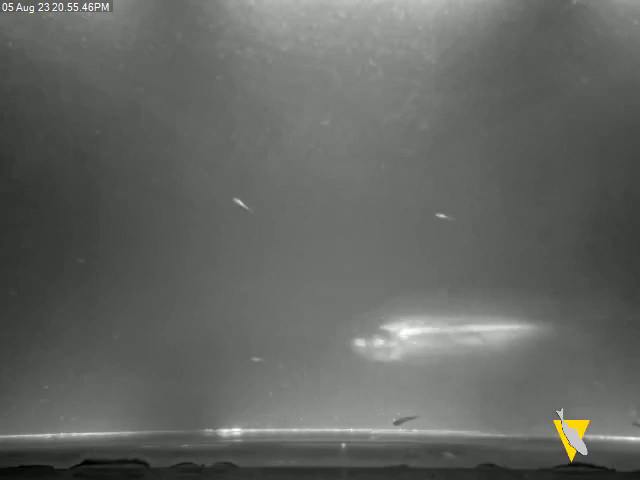\uAC15\uC900\uCE58: (348, 307, 590, 365)
